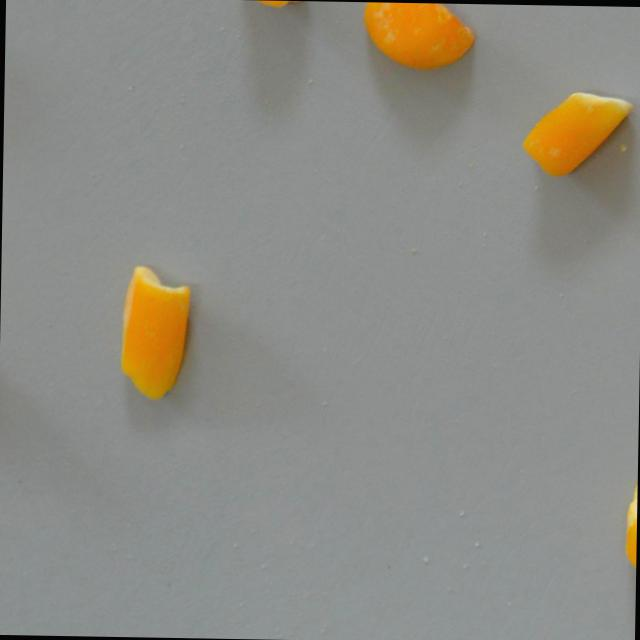dañado: (110, 261, 196, 404), (518, 85, 639, 180), (357, 1, 479, 73), (225, 0, 313, 11)
punto_negro: (614, 474, 637, 583)
